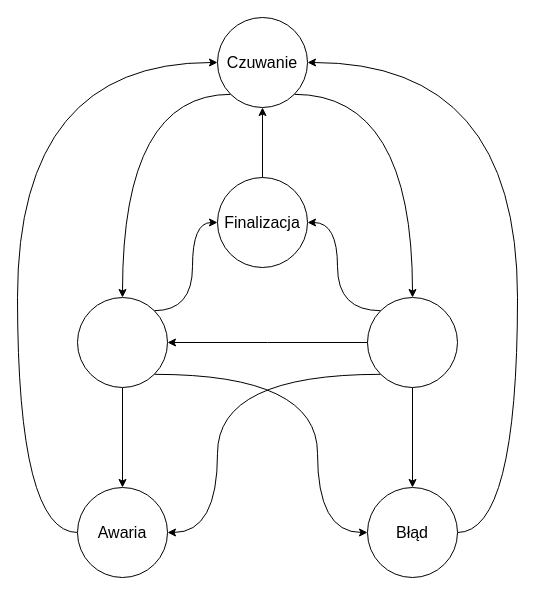
The diagram is 535 pixels wide and 595 high, and some of its shapes have lost their labels. Here are the shapes that lost their labels. From the top down, the centre of each, then its label:
At (x=122, y=342): "Praca".
At (x=412, y=342): "Oczekiwanie".
